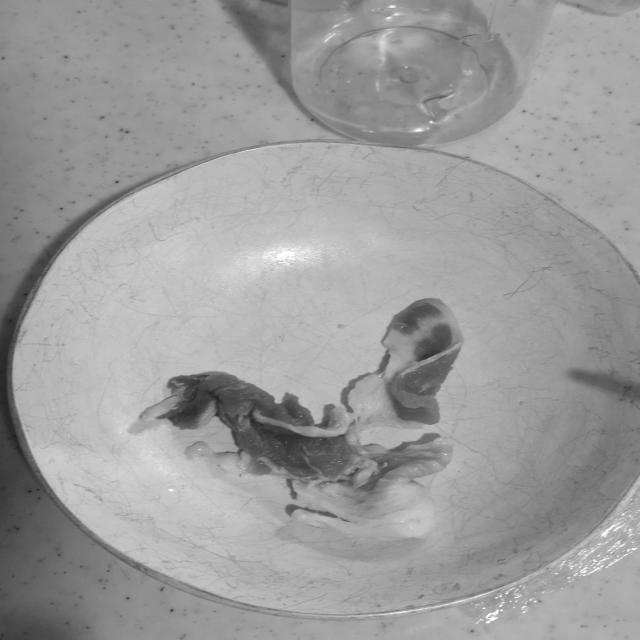NG raw pork,: (132, 281, 479, 553)
